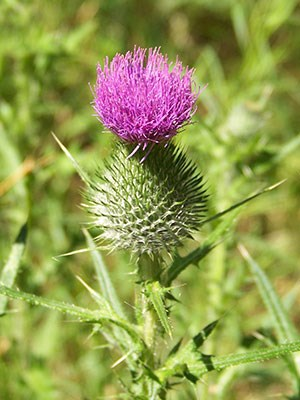thistle: (82, 47, 210, 259)
